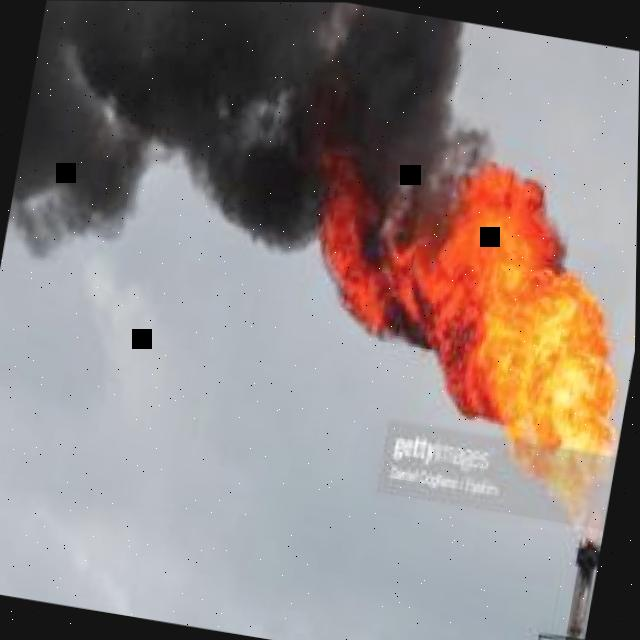fire: (320, 162, 617, 540)
smoke: (8, 0, 491, 256), (386, 303, 431, 349)
